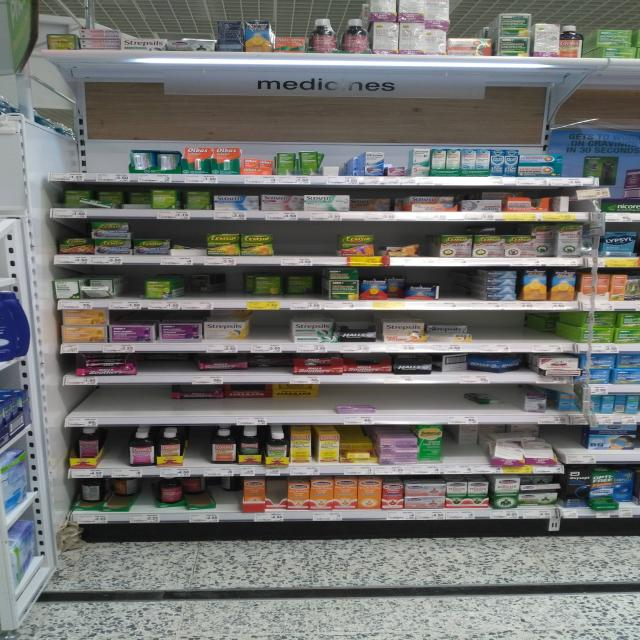void: (441, 267, 482, 311), (254, 308, 289, 354), (308, 221, 338, 270), (180, 390, 217, 427), (278, 221, 305, 267), (379, 385, 410, 425), (172, 225, 200, 269), (412, 383, 441, 425), (121, 388, 148, 430), (153, 389, 180, 430), (185, 432, 209, 477), (90, 386, 115, 429), (101, 139, 125, 183), (550, 310, 574, 354), (102, 429, 124, 477), (71, 140, 95, 183), (445, 382, 469, 424), (65, 384, 88, 427), (318, 385, 341, 428), (44, 141, 68, 182), (500, 382, 523, 423), (266, 477, 286, 524), (560, 427, 582, 469), (474, 312, 497, 352), (165, 353, 193, 385), (526, 313, 547, 353), (502, 312, 522, 353), (139, 352, 158, 386)
